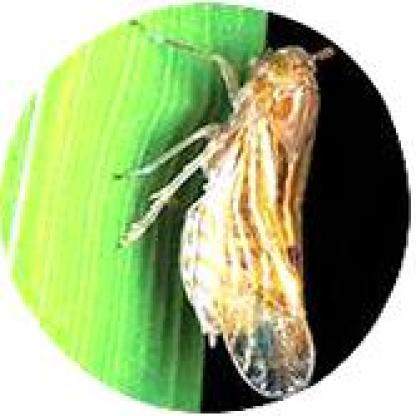brown-planthopper: (183, 30, 320, 392)
